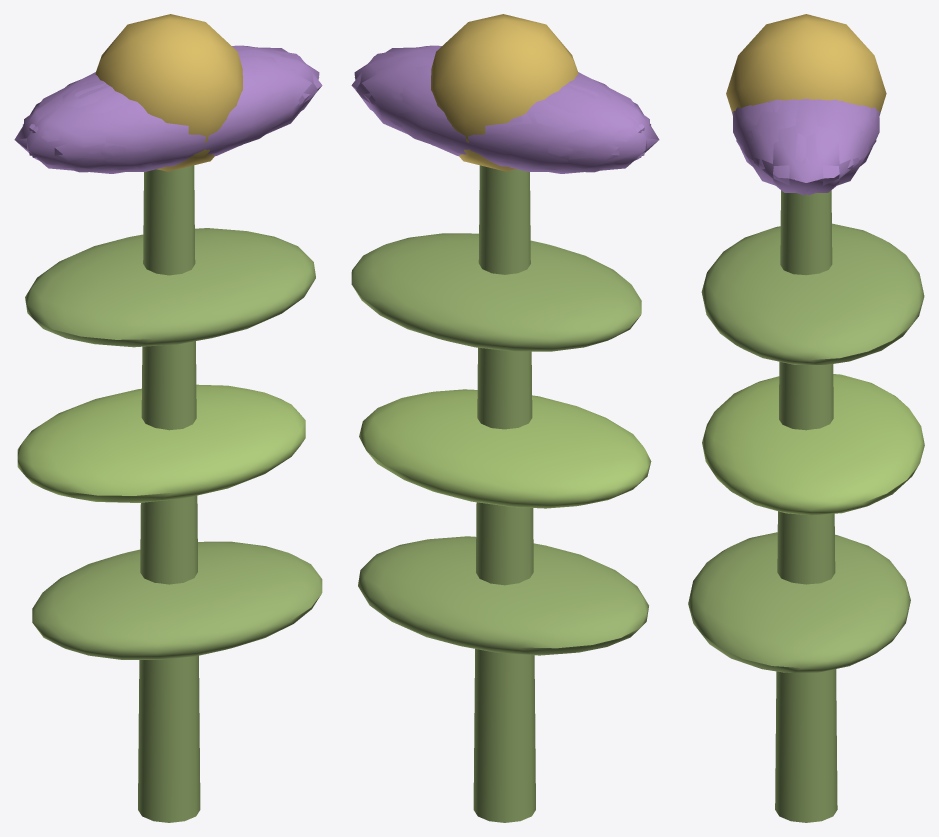
The model's file is broussonetia-papyrifera.glb.
The picture shows the model from 3 angles, left to right: view 1: azimuth 30°, elevation 25°; view 2: azimuth 150°, elevation 25°; view 3: azimuth 270°, elevation 25°; orthographic projection.
Parts seen in each view (by area): view 1: stem, leaf0, leaf2, leaf1, center, petal6, petal2, petal1, petal5, petal7, petal0; view 2: leaf2, leaf1, stem, leaf0, center, petal3, petal7, petal8, petal4, petal2, petal0; view 3: leaf2, leaf0, leaf1, stem, center, petal0, petal5, petal4, petal1, petal8.
Part boxes in pixels (x1=…): stem: x1=138, y1=165, x2=200, y2=822; leaf0: x1=32, y1=541, x2=322, y2=659; leaf2: x1=25, y1=228, x2=315, y2=347; leaf1: x1=17, y1=384, x2=305, y2=502; center: x1=95, y1=14, x2=242, y2=171; petal6: x1=32, y1=85, x2=229, y2=172; petal2: x1=24, y1=80, x2=175, y2=173; petal1: x1=101, y1=64, x2=304, y2=170; petal5: x1=164, y1=54, x2=322, y2=162; petal7: x1=14, y1=74, x2=114, y2=165; petal0: x1=236, y1=47, x2=319, y2=145; leaf2: x1=351, y1=233, x2=641, y2=351; leaf1: x1=359, y1=389, x2=651, y2=508; stem: x1=473, y1=165, x2=535, y2=822; leaf0: x1=358, y1=536, x2=648, y2=655; center: x1=431, y1=14, x2=578, y2=171; petal3: x1=444, y1=85, x2=641, y2=172; petal7: x1=498, y1=80, x2=649, y2=173; petal8: x1=369, y1=64, x2=572, y2=170; petal4: x1=351, y1=54, x2=509, y2=162; petal2: x1=559, y1=74, x2=659, y2=165; petal0: x1=354, y1=47, x2=437, y2=145; leaf2: x1=701, y1=223, x2=924, y2=364; leaf0: x1=688, y1=532, x2=910, y2=672; leaf1: x1=702, y1=374, x2=924, y2=515; stem: x1=775, y1=190, x2=837, y2=822; center: x1=726, y1=14, x2=886, y2=113; petal0: x1=747, y1=98, x2=865, y2=192; petal5: x1=736, y1=99, x2=818, y2=195; petal4: x1=794, y1=99, x2=876, y2=195; petal1: x1=733, y1=99, x2=782, y2=167; petal8: x1=829, y1=99, x2=879, y2=167.
Bounding box in the file's own units: 0.1541 × 0.3903 × 0.1062.
